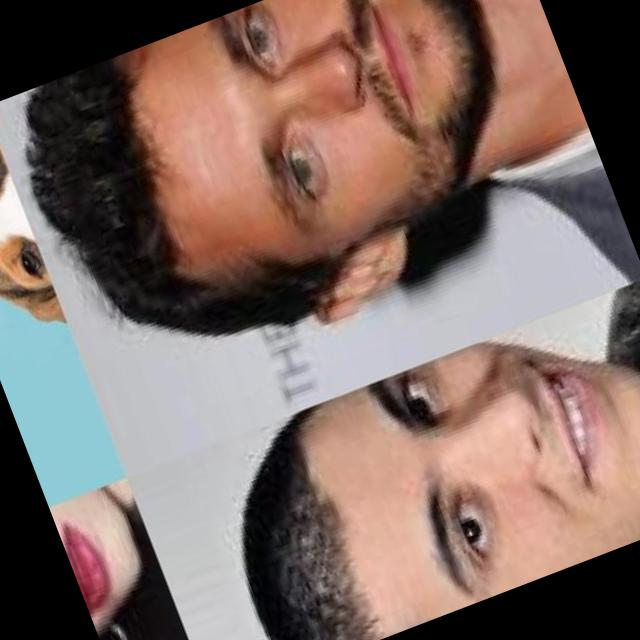bareface: (50, 0, 532, 361), (290, 299, 640, 632)
